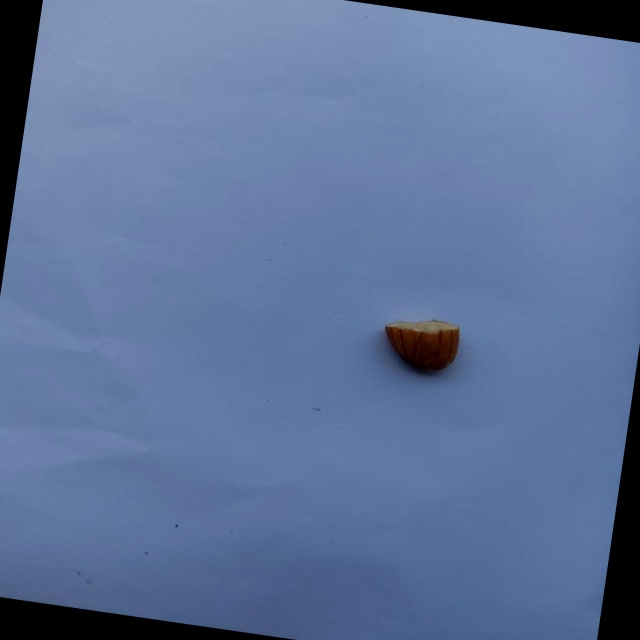grade4: (370, 308, 469, 382)
